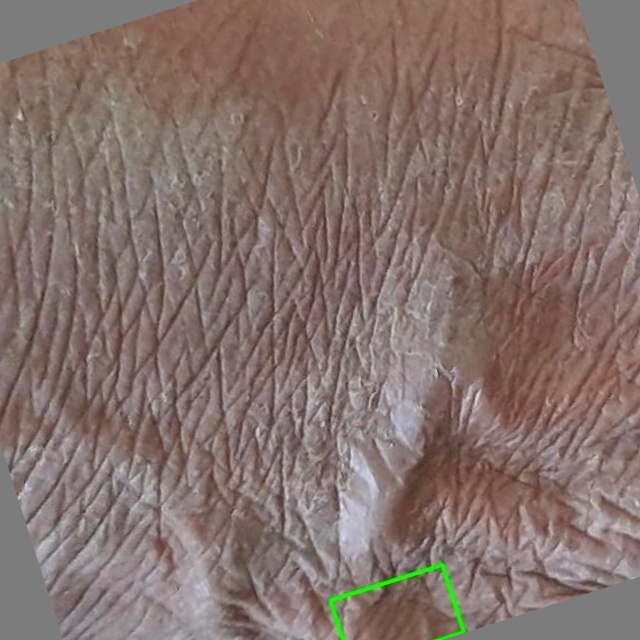Eczema: (330, 564, 463, 639)
